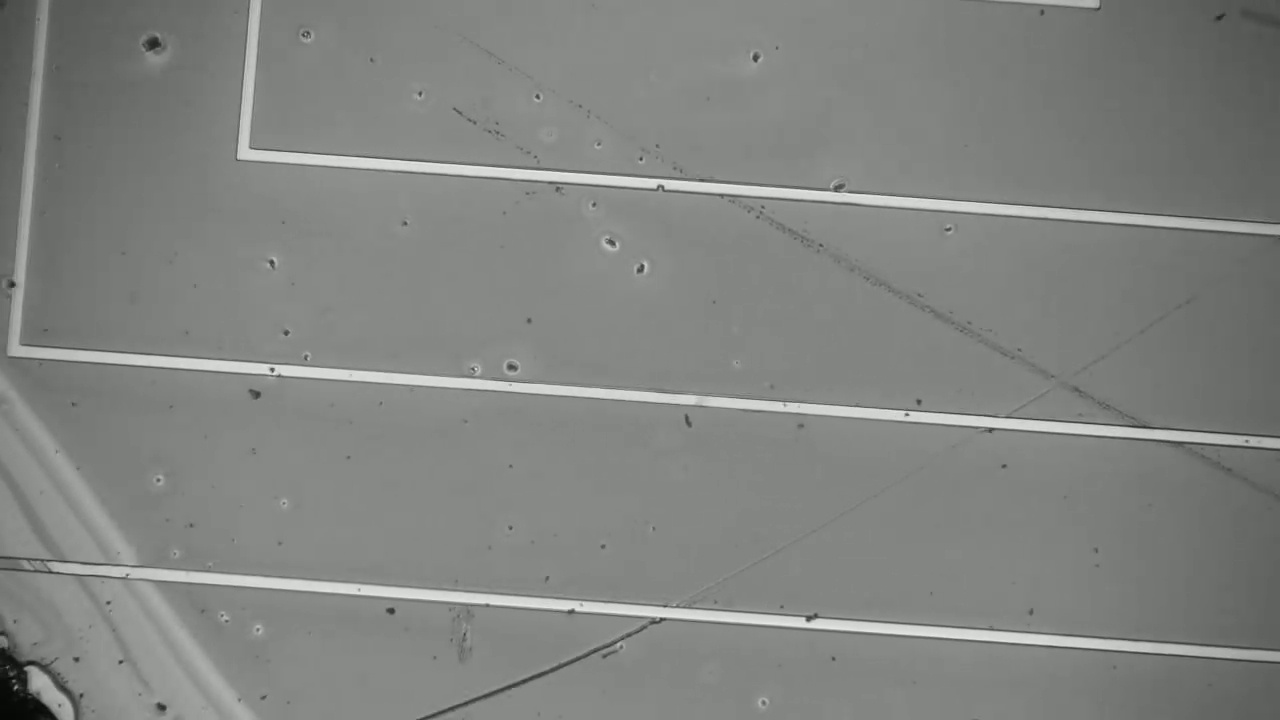edge_bite: (649, 174, 673, 196)
gray_line: (0, 549, 73, 586)
scratch: (476, 43, 1278, 506), (680, 299, 1196, 604), (417, 613, 655, 718)
stains_enbedded: (793, 610, 828, 636)
